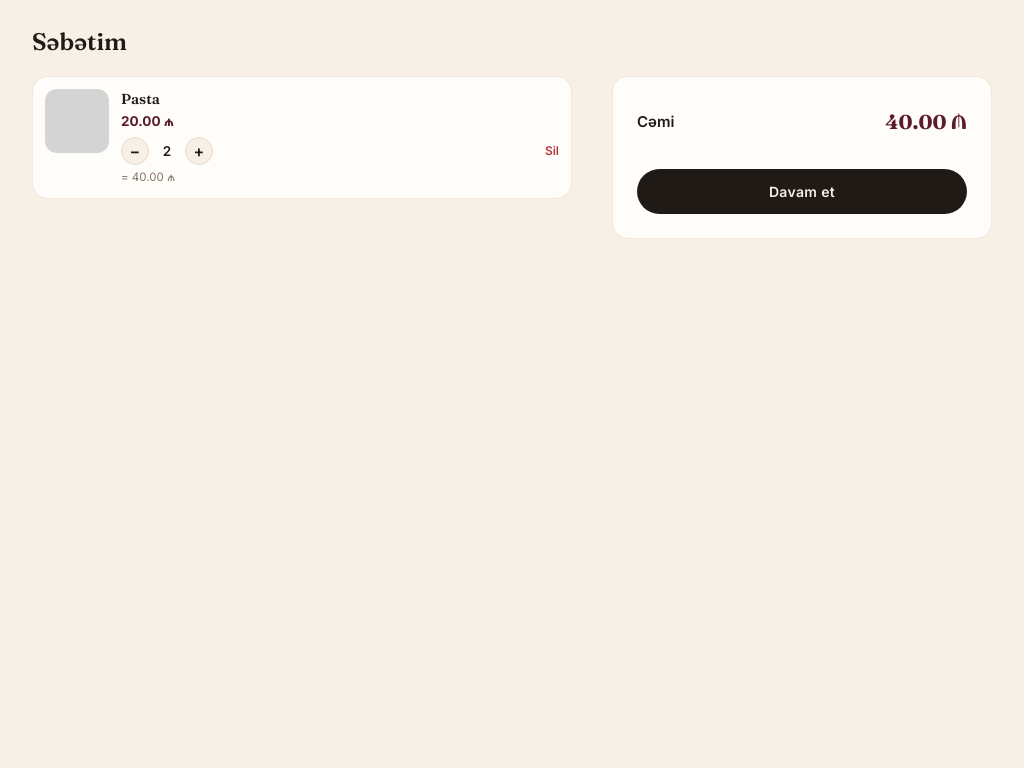
Test: Cart: offline növbə və qiymət dəyişikliyi › dialoqda ləğv edərsə sifariş göndərilmir
Click the button "Davam et": point(802, 192) [637,169,967,214]
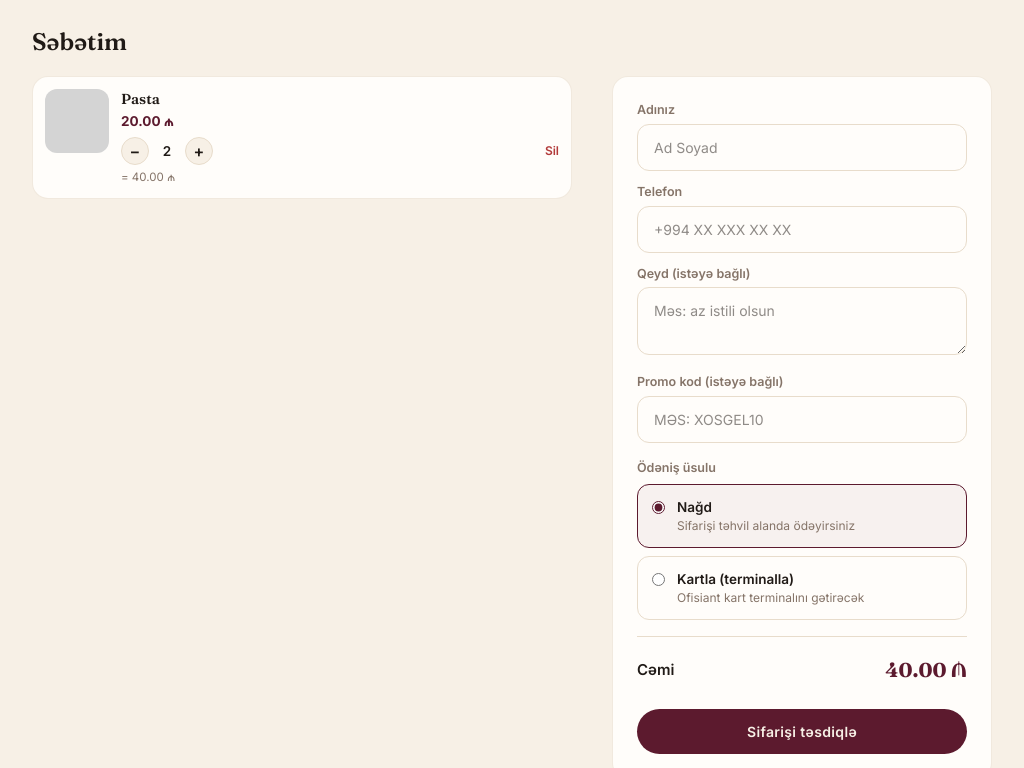
In the field with placeholder "Ad Soyad": point(802, 147) [637,124,967,171], type "Ali"
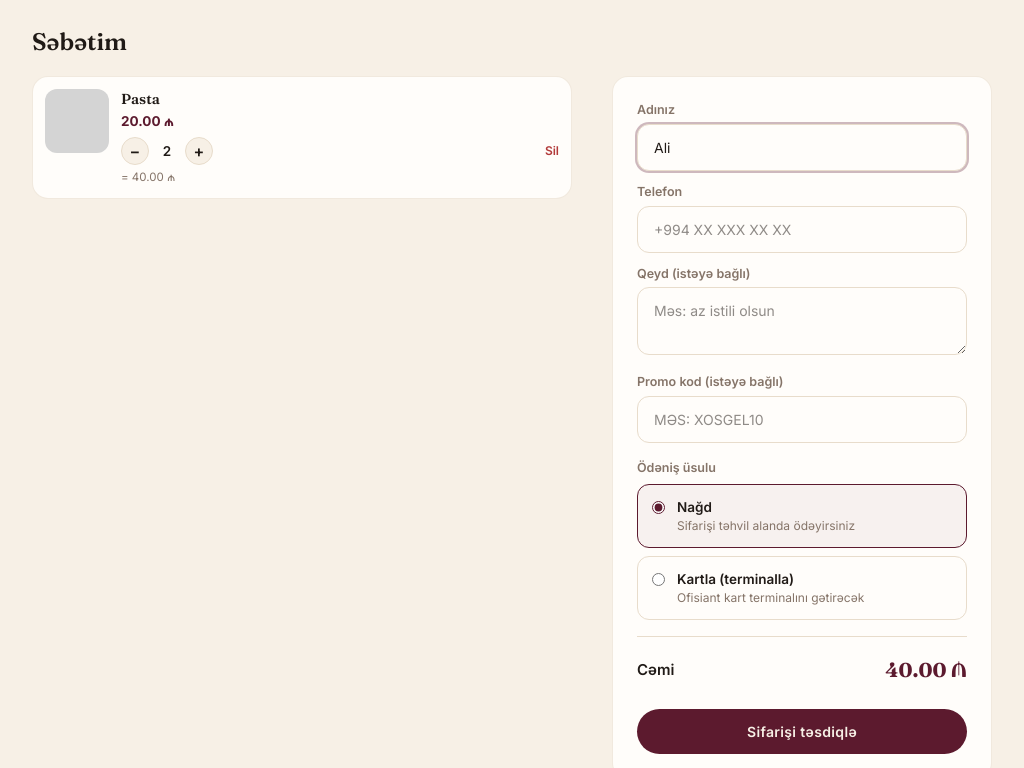
In the field with placeholder "+994 XX XXX XX XX": point(802, 229) [637,206,967,252], type "+994501112233"
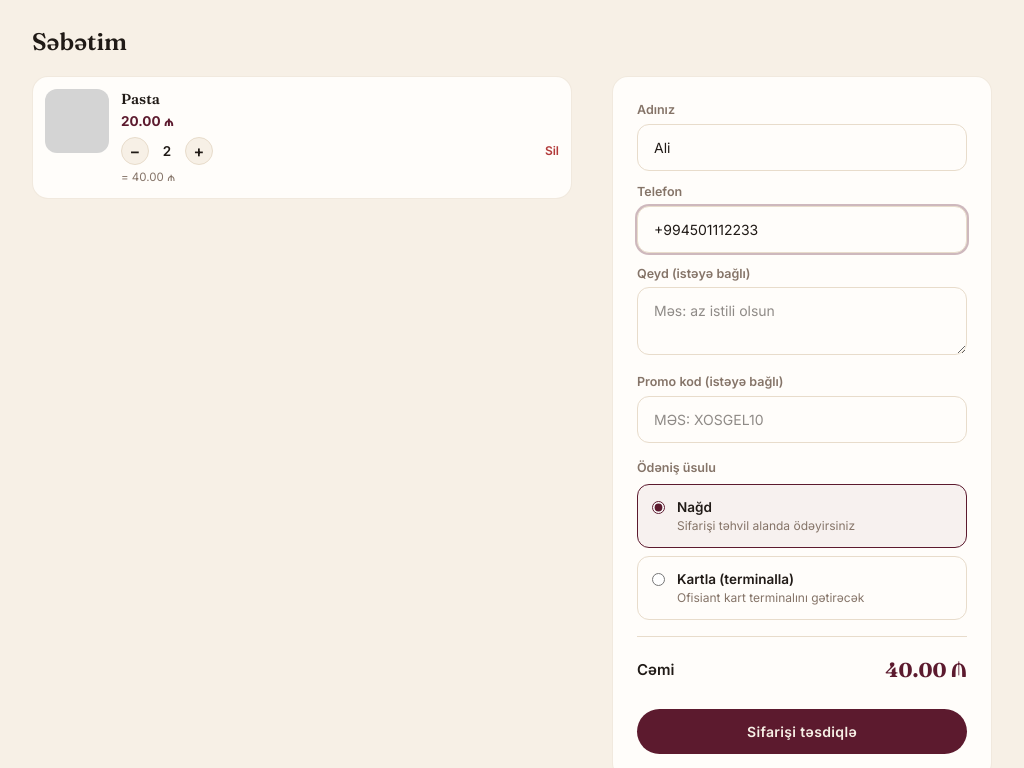
Click the button "Sifarişi təsdiqlə": point(802, 732) [637,709,967,754]
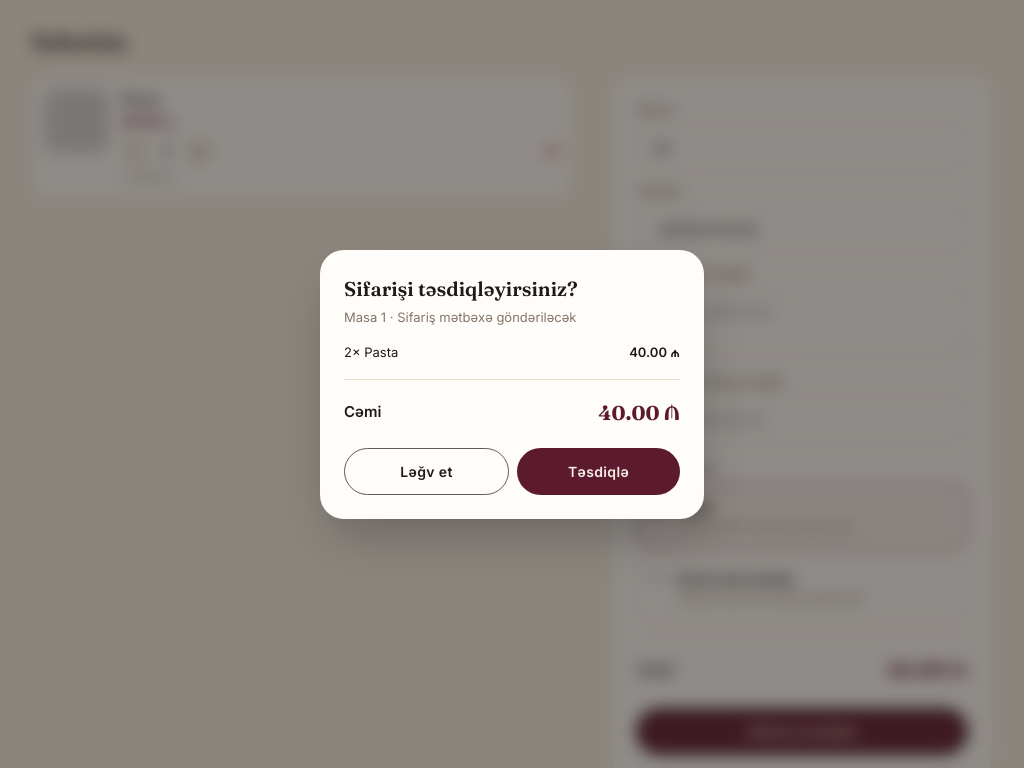
Click the button "Təsdiqlə": point(598, 471) [517,448,680,494]
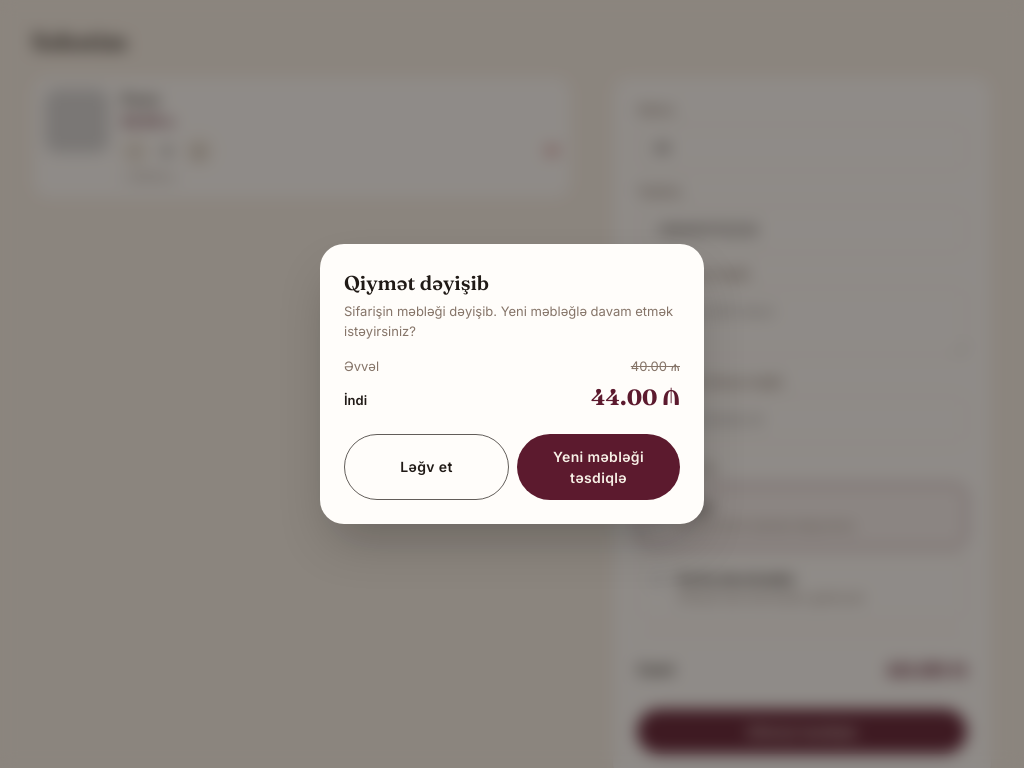
expect the dialog "Qiymət dəyişib" is shown: met
Click the button "Ləğv et": point(426, 467) [344,434,509,500]
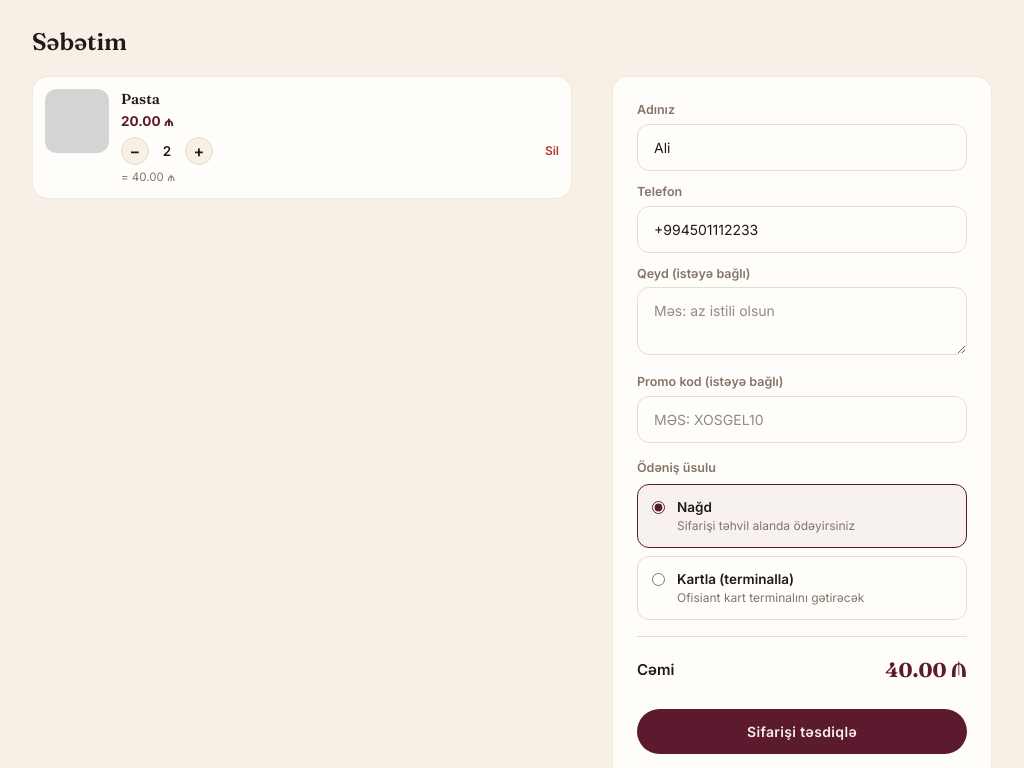
expect the heading "Qiymət dəyişib" is gone: met
